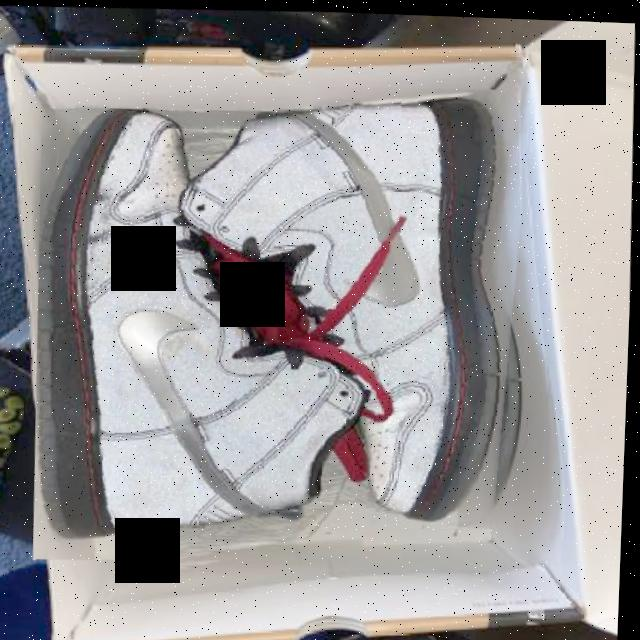shoe: (29, 85, 411, 570), (169, 75, 541, 536)
